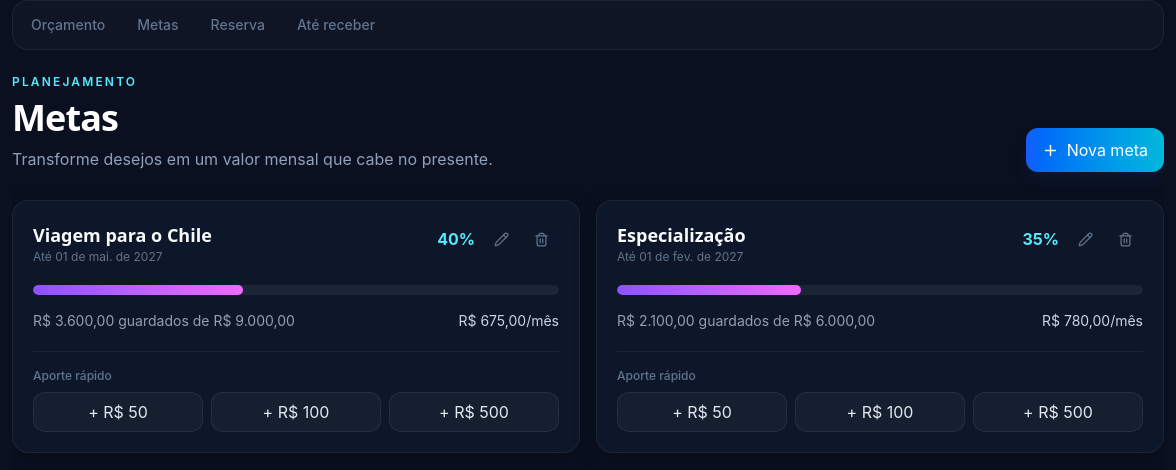
adds quick deposits to a goal
This screenshot has width=1176, height=470.
Expected: the button "+ R$ 50" below "R$ 3.600,00" is shown, [33, 392, 203, 432]
Expected: the button "+ R$ 500" below "R$ 9.000,00" is shown, [389, 392, 559, 432]
What coordinates should you click on to do the following:
click the button "+ R$ 100" below "R$ 3.600,00"
I would click on:
 (296, 412)
Its box is [211, 392, 381, 432].
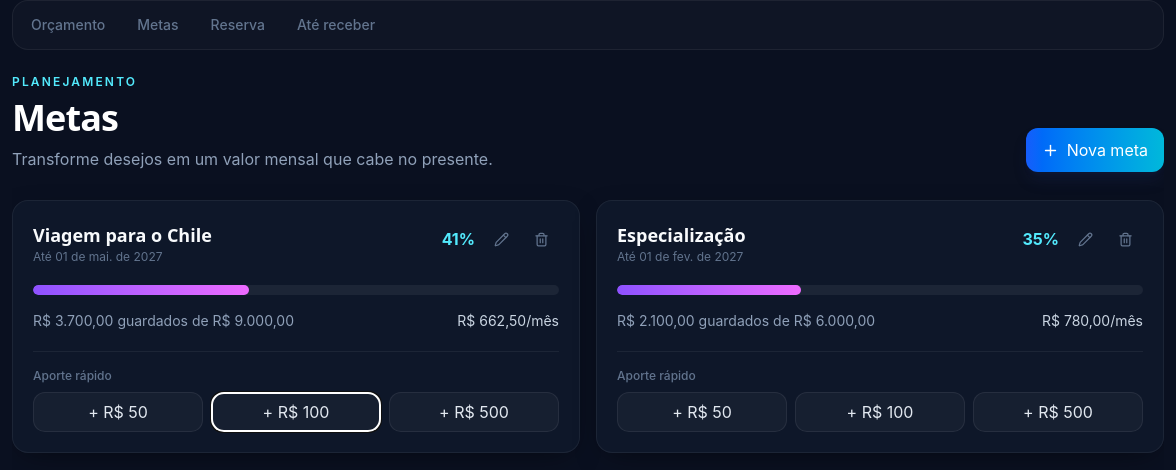
Expected: the text "R$ 3.700,00 guardados de R$ 9.000,00" is shown, [33, 311, 294, 331]
